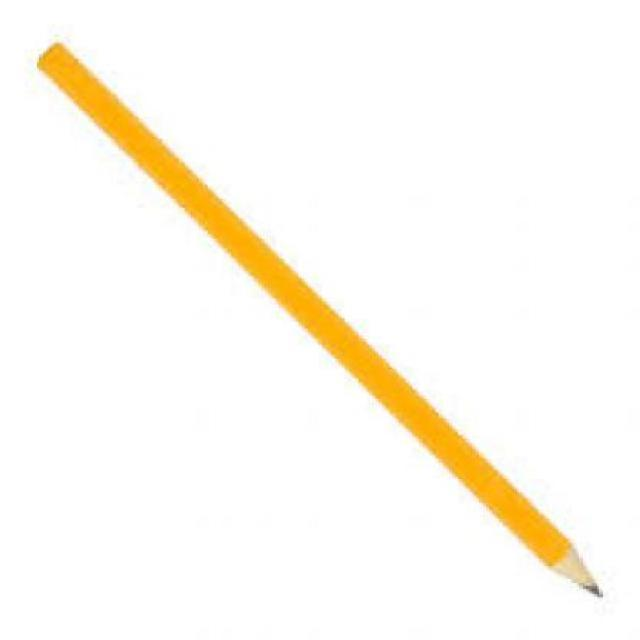Pencil: (518, 518, 618, 618)
